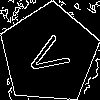V: (24, 29, 79, 81)
